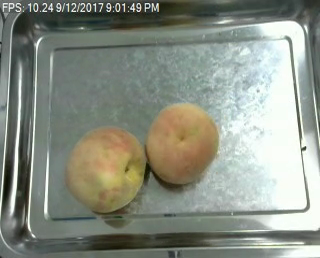Peach: (63, 125, 147, 213), (147, 103, 219, 184)
